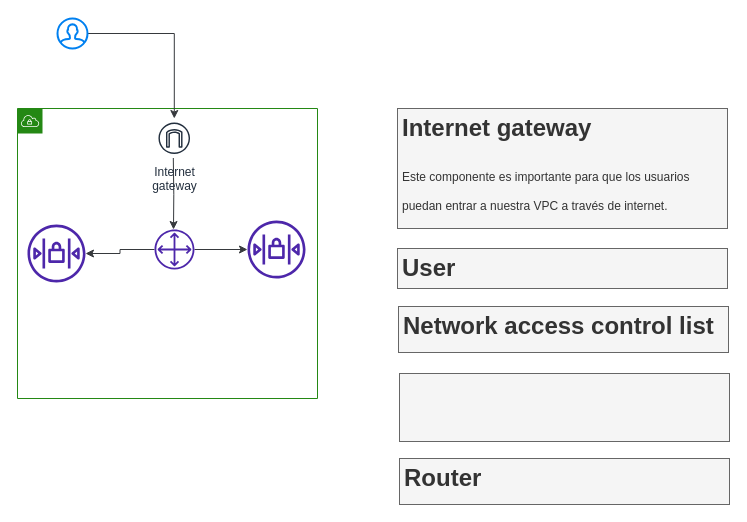
The diagram is 747 pixels wide and 522 high, and some of its shapes have lost their labels. Here are the shapes that lost their labels. From the top down, the box of each, then its label:
(16, 108, 318, 398): VPC
(398, 372, 730, 442): Router Te redirige a donde quieras ir desde el gateway
